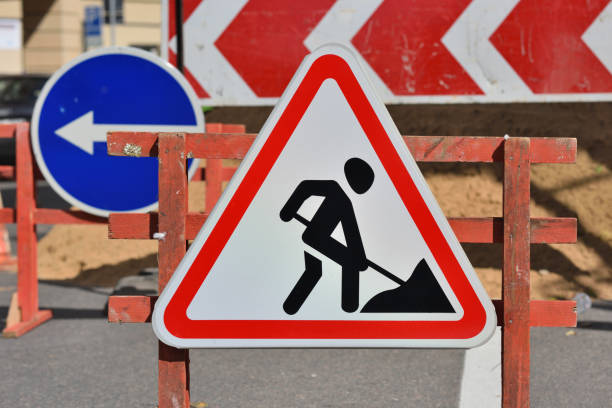yol_calismasi_levha: (155, 45, 499, 347)
